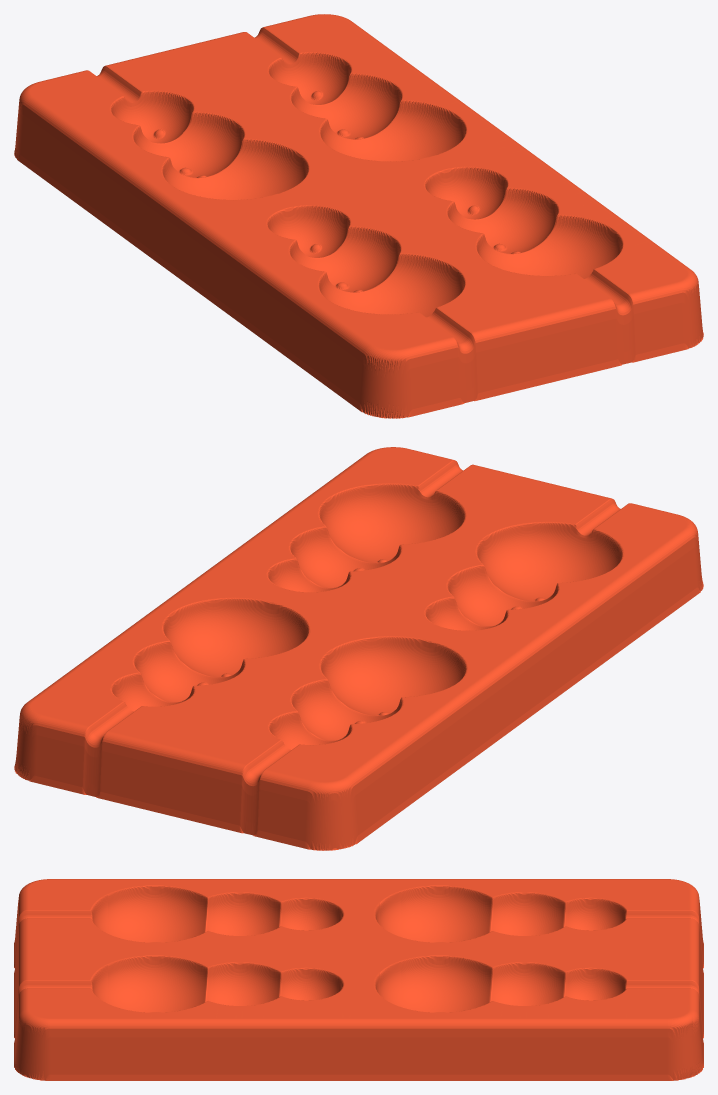
File: mold.glb
3 renders of one model, top to bottom at view 1: azimuth 30°, elevation 25°; view 2: azimuth 150°, elevation 25°; view 3: azimuth 270°, elevation 25°, orthographic. The views are drawn at different scales.
Parts seen in each view (by area): view 1: geometry_0; view 2: geometry_0; view 3: geometry_0.
Part boxes in pixels (x1,y1,x2,y2): geometry_0: [14, 14, 703, 418]; geometry_0: [14, 447, 703, 850]; geometry_0: [14, 879, 703, 1080].
Size of the model in its own units: 0.0889 by 0.0155 by 0.1719.
